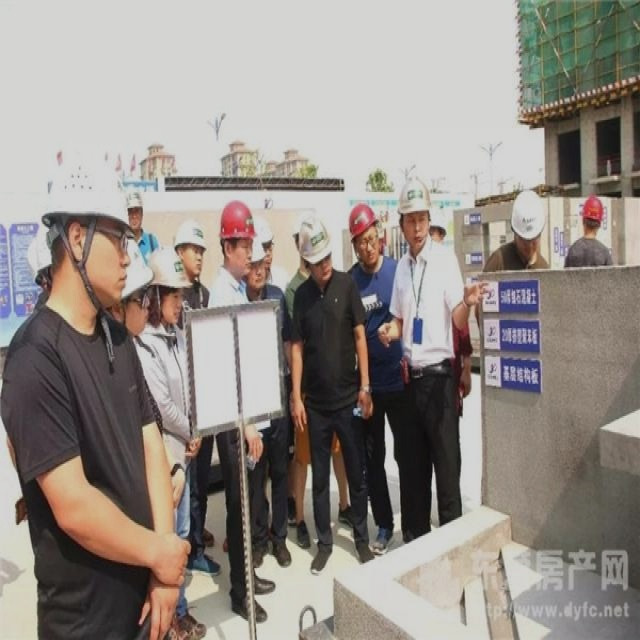Con_Casco: (50, 155, 134, 297)
Sin_Chaleco: (394, 250, 466, 378)
